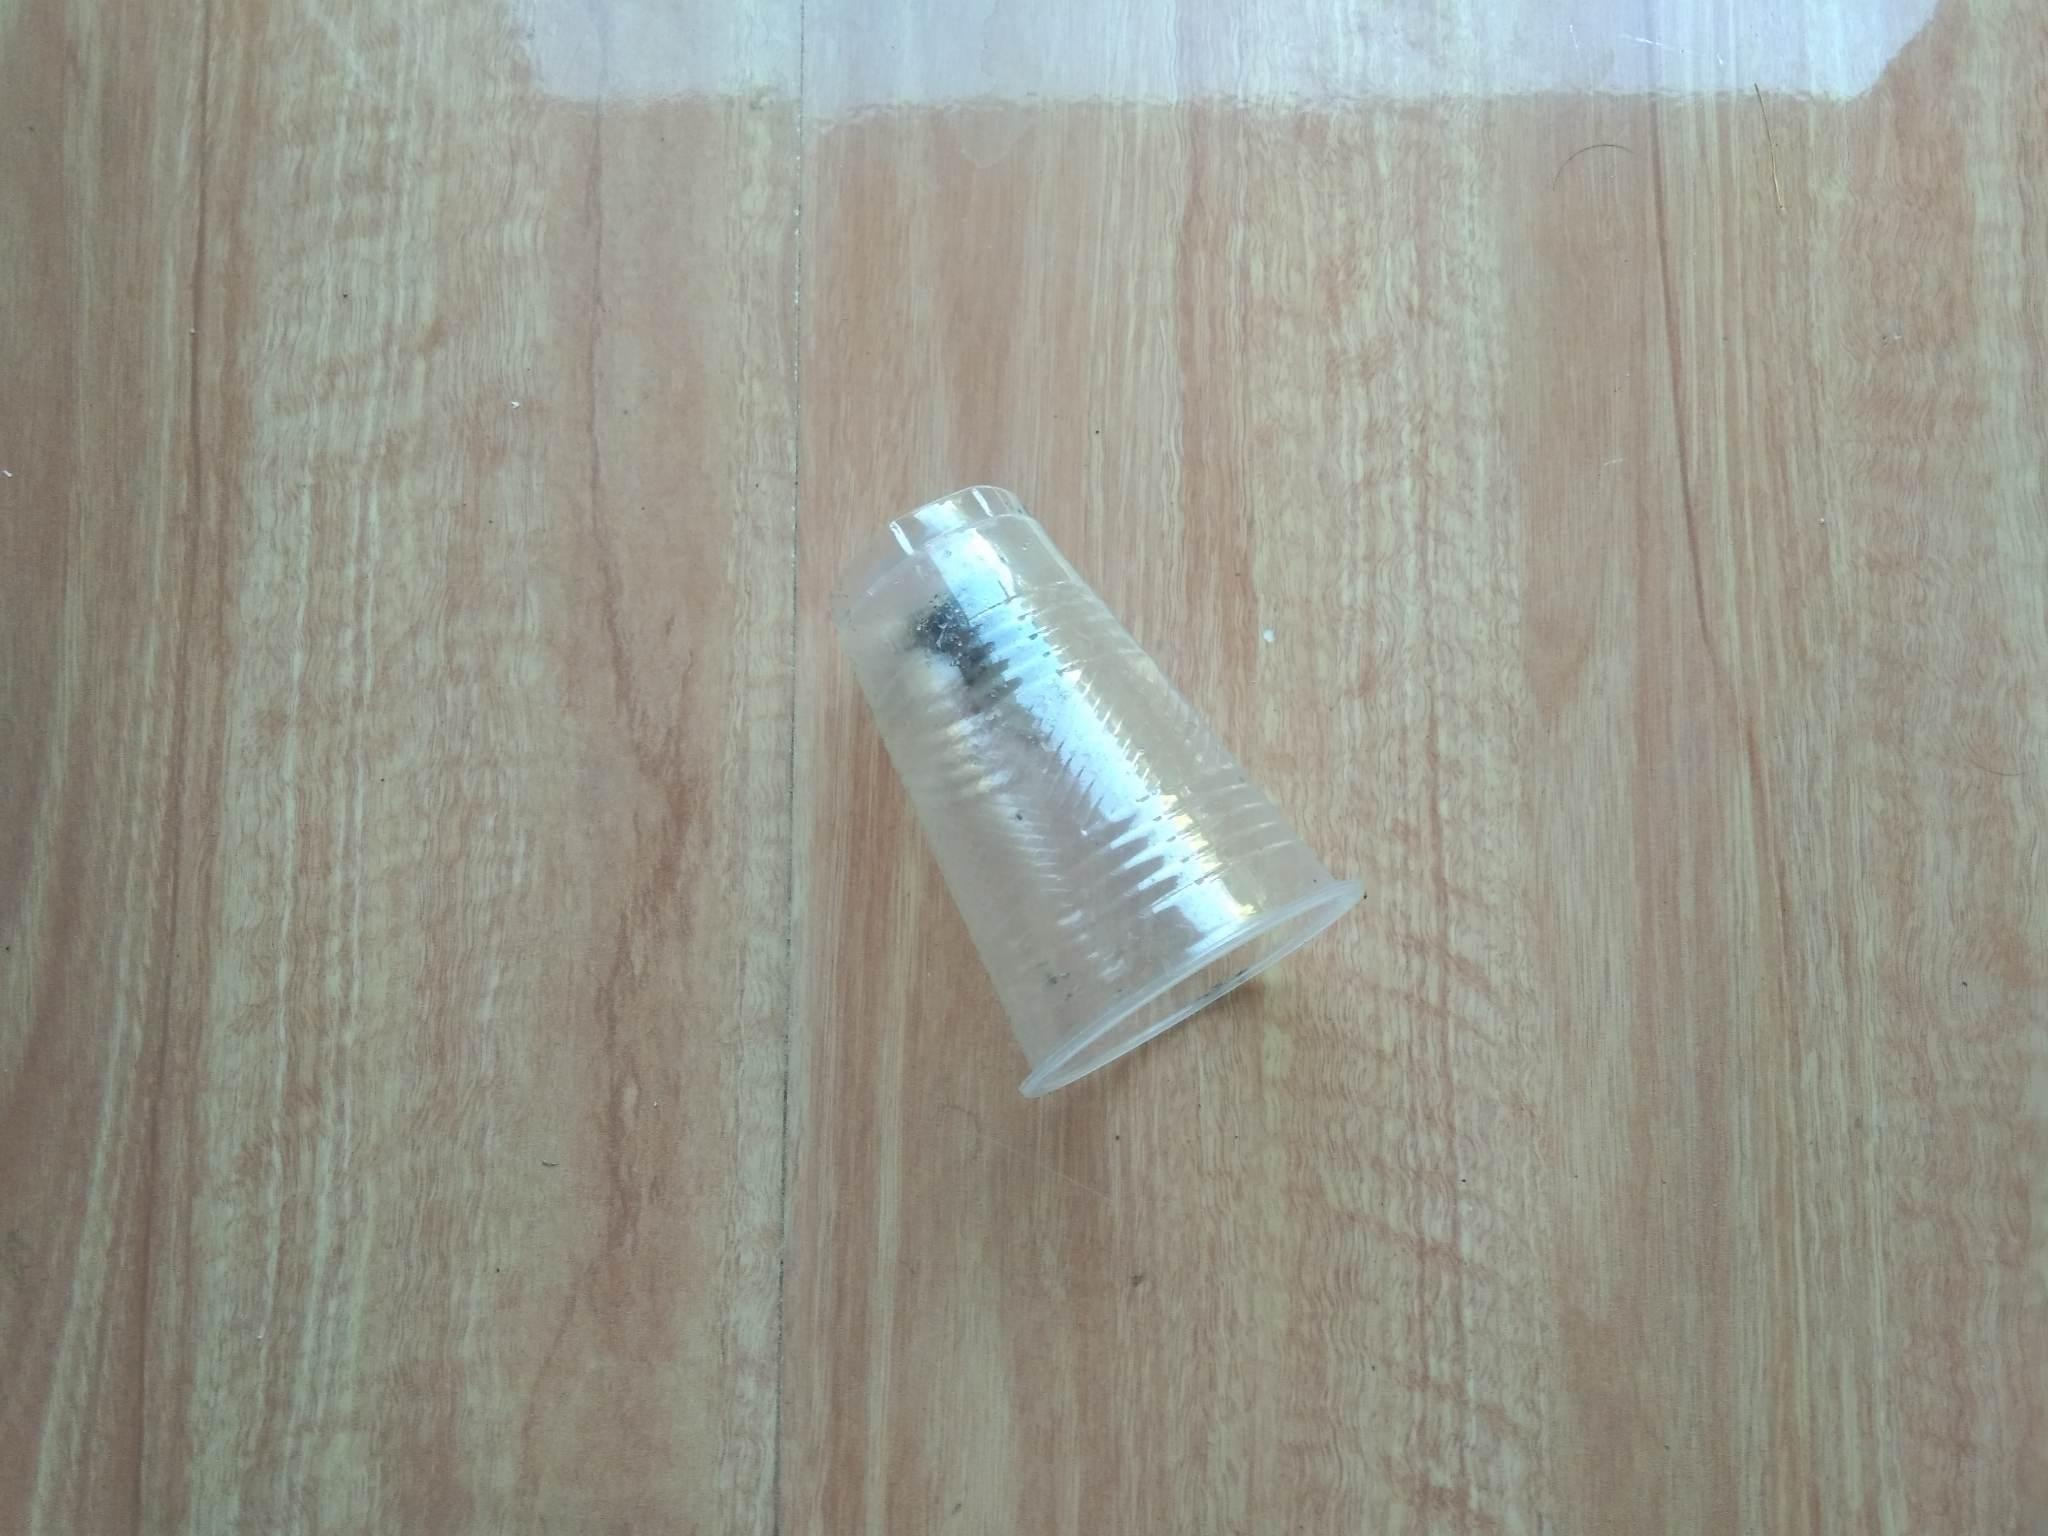plastic: (747, 466, 1388, 1081)
